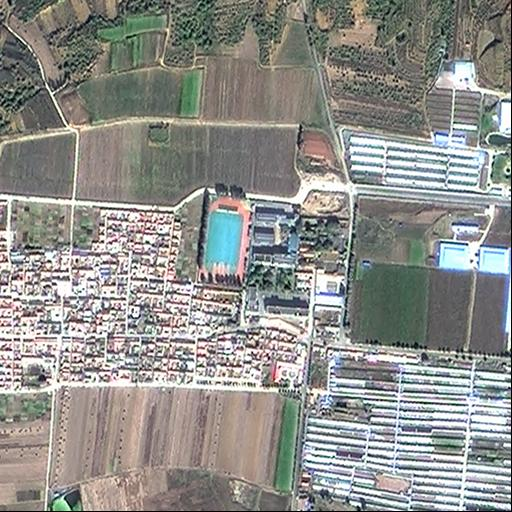school: (194, 194, 312, 318)
